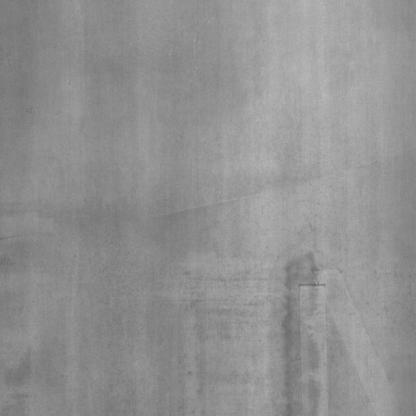rolled_pit: (288, 253, 408, 415)
